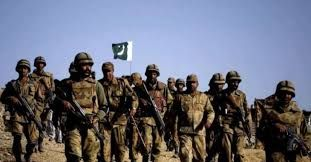uniform: (94, 62, 132, 157), (63, 63, 102, 152), (262, 79, 303, 159), (210, 71, 247, 158), (5, 72, 39, 152), (137, 63, 168, 148), (174, 84, 208, 159), (28, 62, 53, 132), (167, 78, 184, 156)
